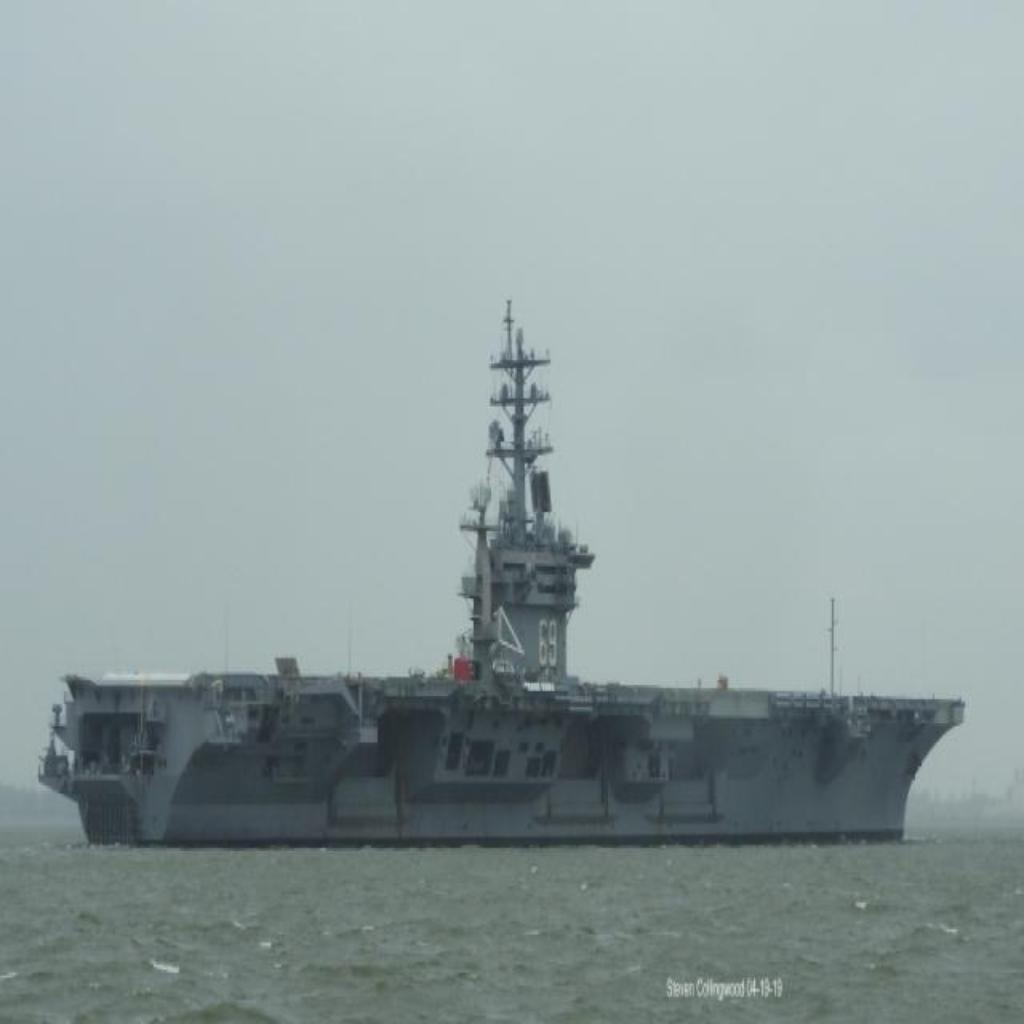Warship: (36, 290, 964, 846)
